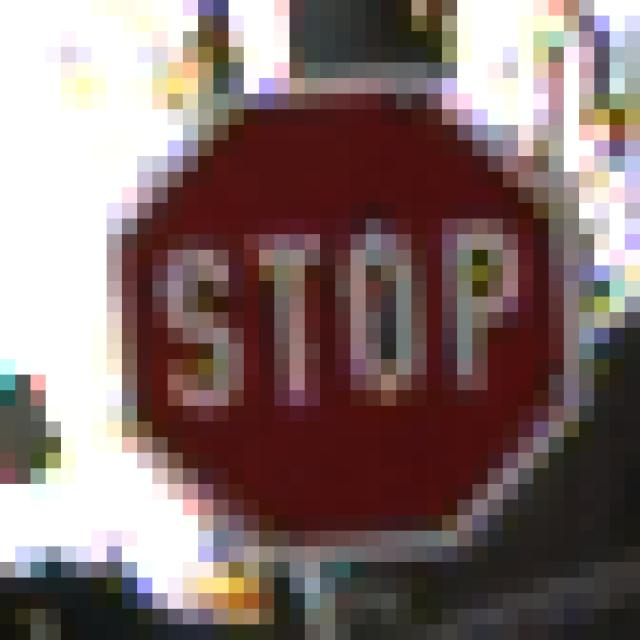STOP: (92, 79, 565, 563)
